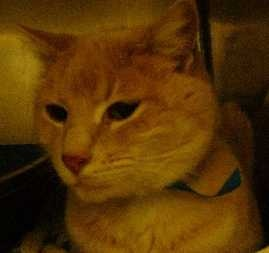Cat: (1, 0, 242, 242)
